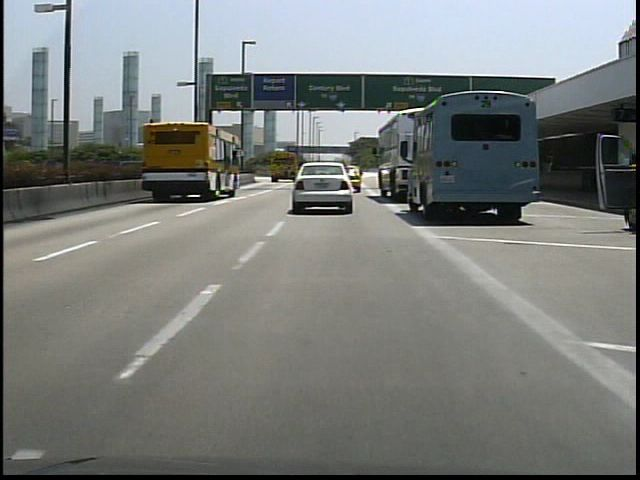car: (293, 162, 352, 213)
